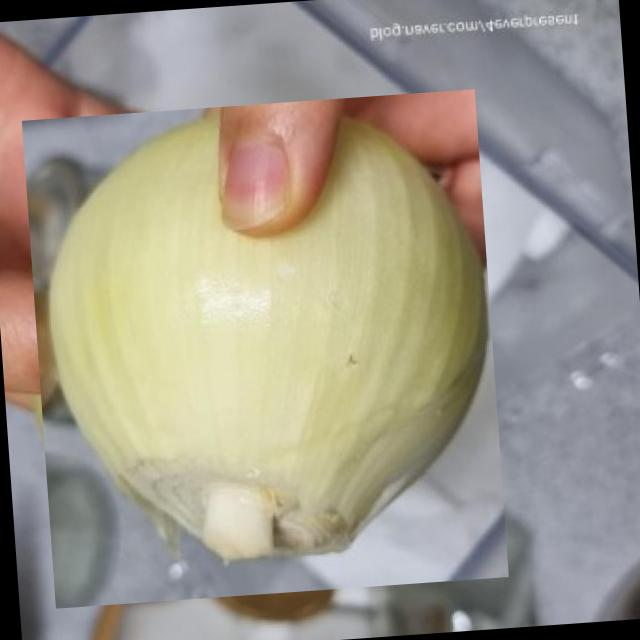Onion: (14, 98, 516, 600)
